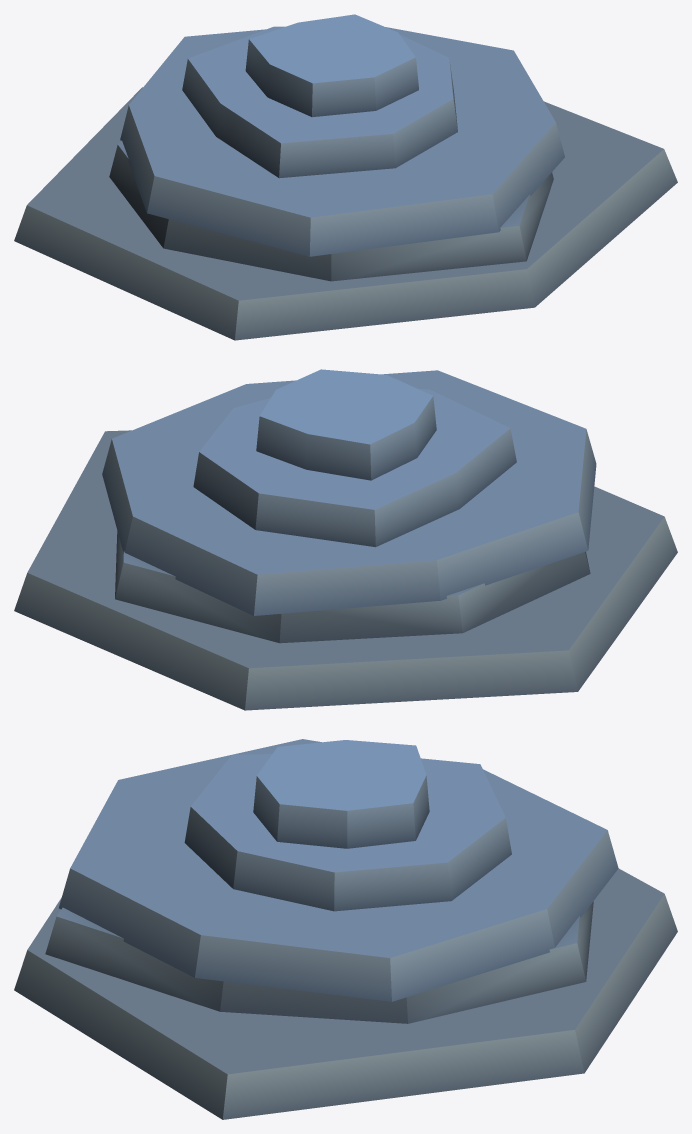
The model's file is mineral_shelf.glb.
3 renders of one model, top to bottom at view 1: azimuth 30°, elevation 25°; view 2: azimuth 150°, elevation 25°; view 3: azimuth 270°, elevation 25°, orthographic. The views are drawn at different scales.
Visible parts, largest first — view 1: mineral_shelf; view 2: mineral_shelf; view 3: mineral_shelf.
Part boxes in pixels (x1,y1,x2,y2): mineral_shelf: (14,14,677,340); mineral_shelf: (14,369,677,710); mineral_shelf: (14,739,677,1119).
Bounding box in the file's own units: 5.04 × 1.42 × 4.61.
